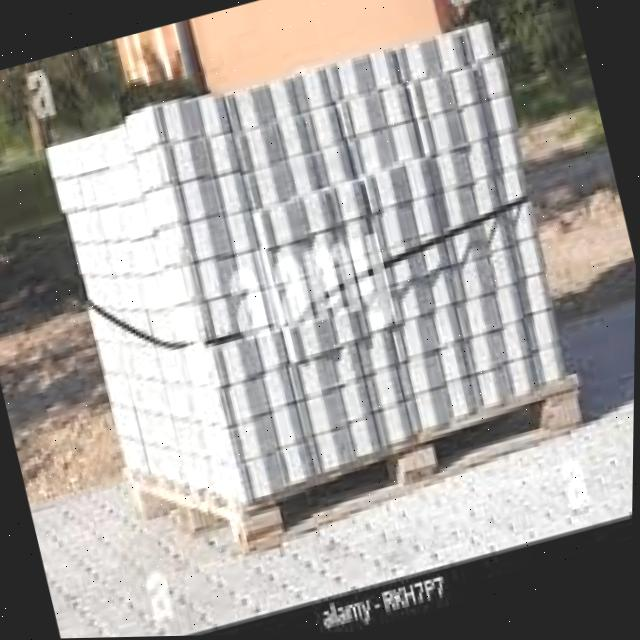bricks: (47, 22, 564, 508)
